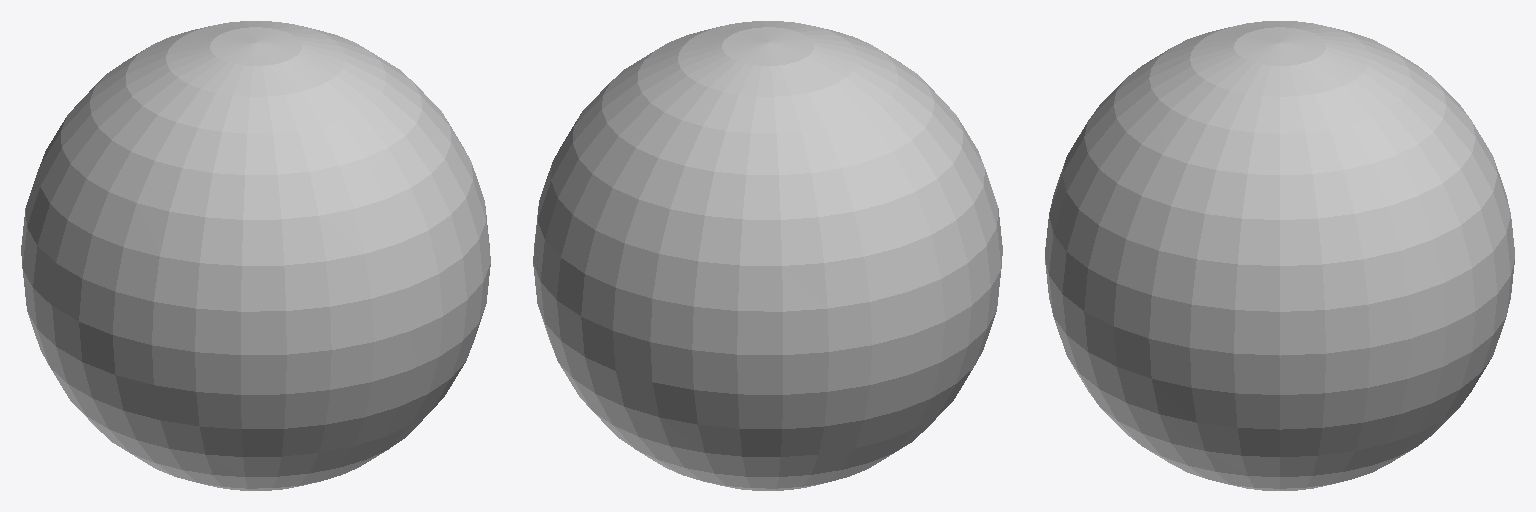
The model's file is contact point.obj.
The picture shows the model from 3 angles: view 1: azimuth 30°, elevation 25°; view 2: azimuth 150°, elevation 25°; view 3: azimuth 270°, elevation 25°; orthographic projection.
Visible parts, largest first — view 1: Sphere; view 2: Sphere; view 3: Sphere.
Boxes of the visible parts, <box> form: Sphere: <box>21,21,490,490</box>; Sphere: <box>533,21,1002,490</box>; Sphere: <box>1045,21,1514,490</box>.
Size of the model in its own units: 0.02 by 0.02 by 0.02.